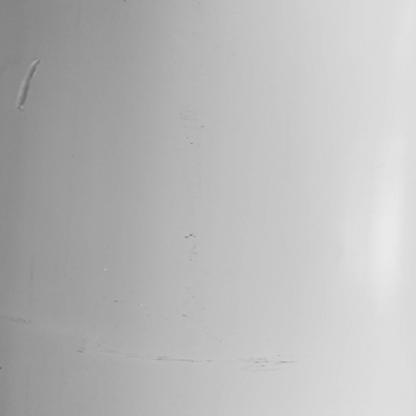sunshang: (15, 56, 41, 109)
